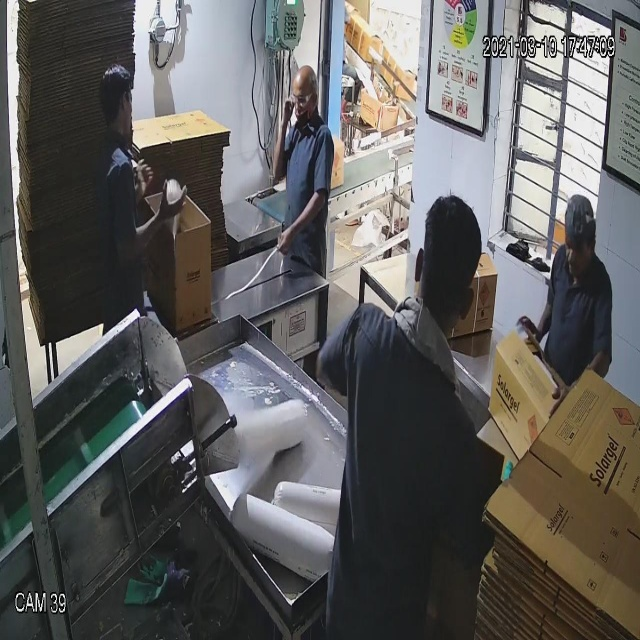Sin_guantes: (111, 181, 192, 269), (267, 190, 334, 264), (266, 95, 299, 200)
